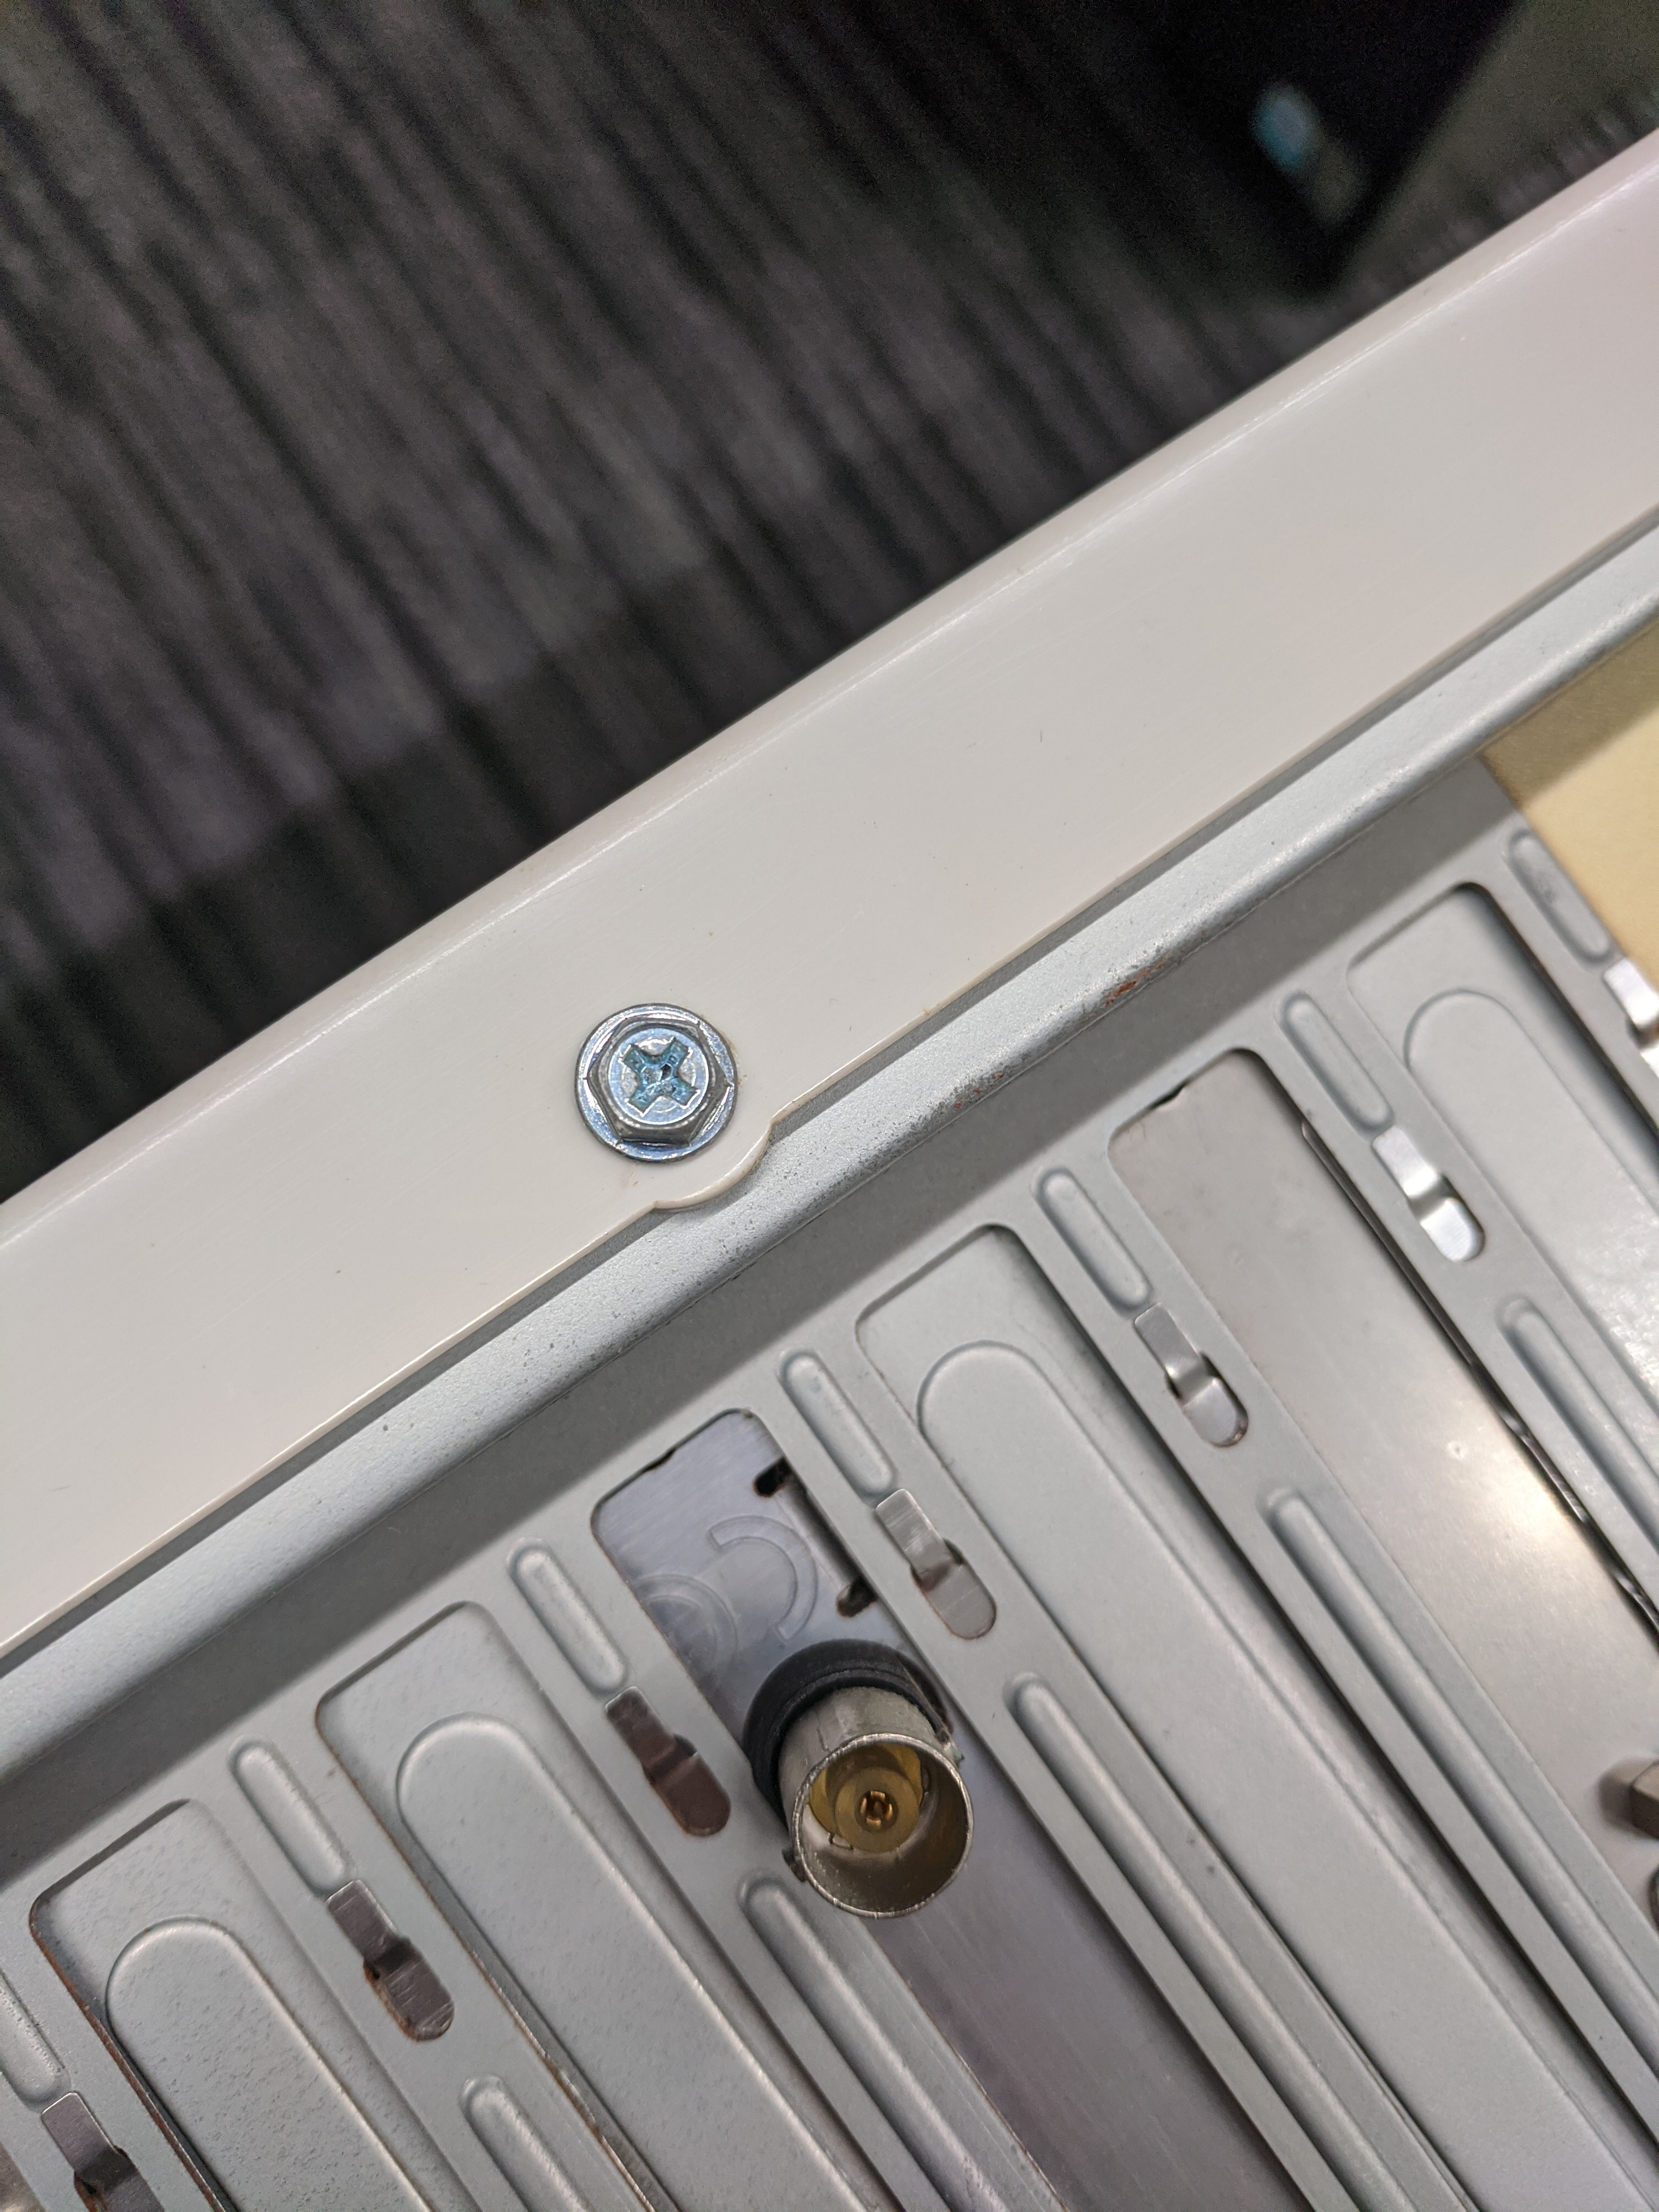cross_recessed_screw: (572, 1001, 739, 1153)
